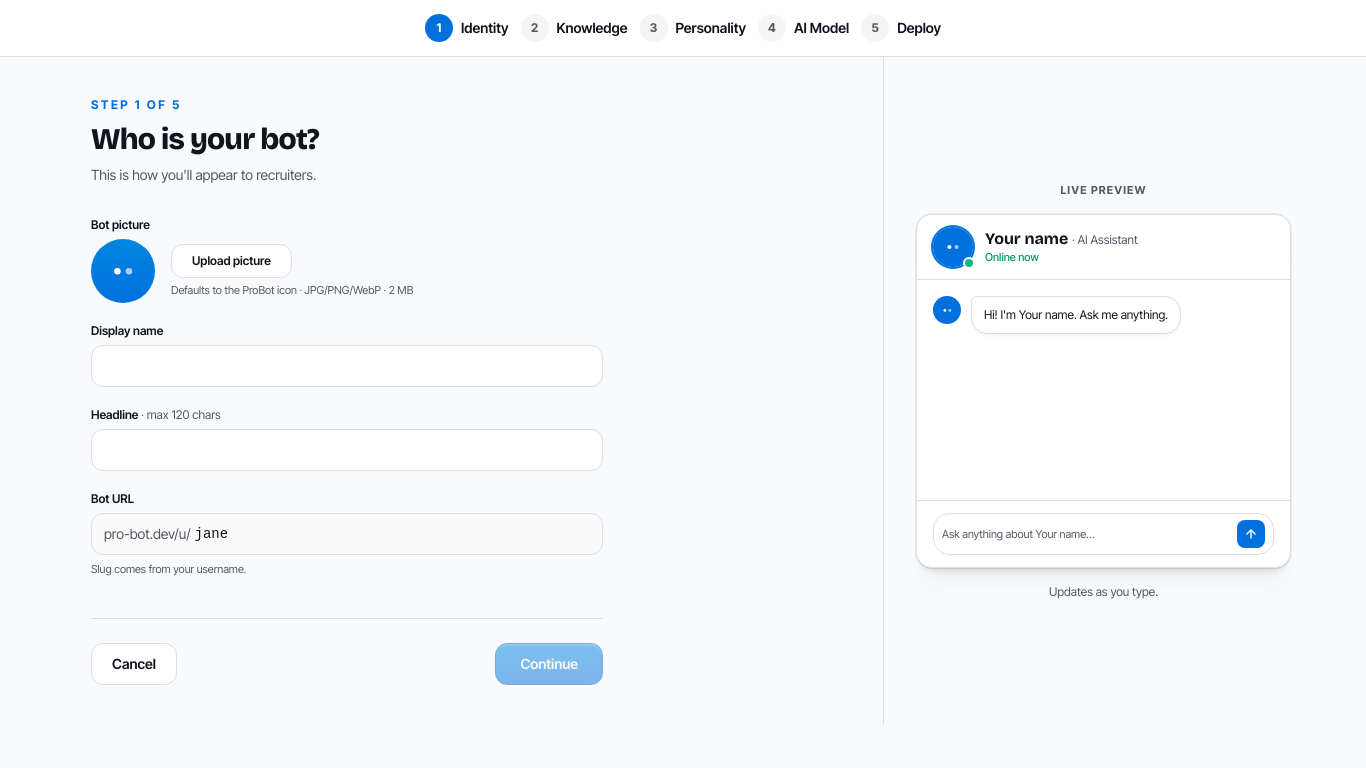
Test: BotFactoryForm › disables Continue until name is filled (Step 1 validation)
Expected: the button "Continue" is disabled, [495,642,603,684]
Type "Jane Doe" into the field labelled "Display name". click: (347, 366)
box: [91,345,603,387]
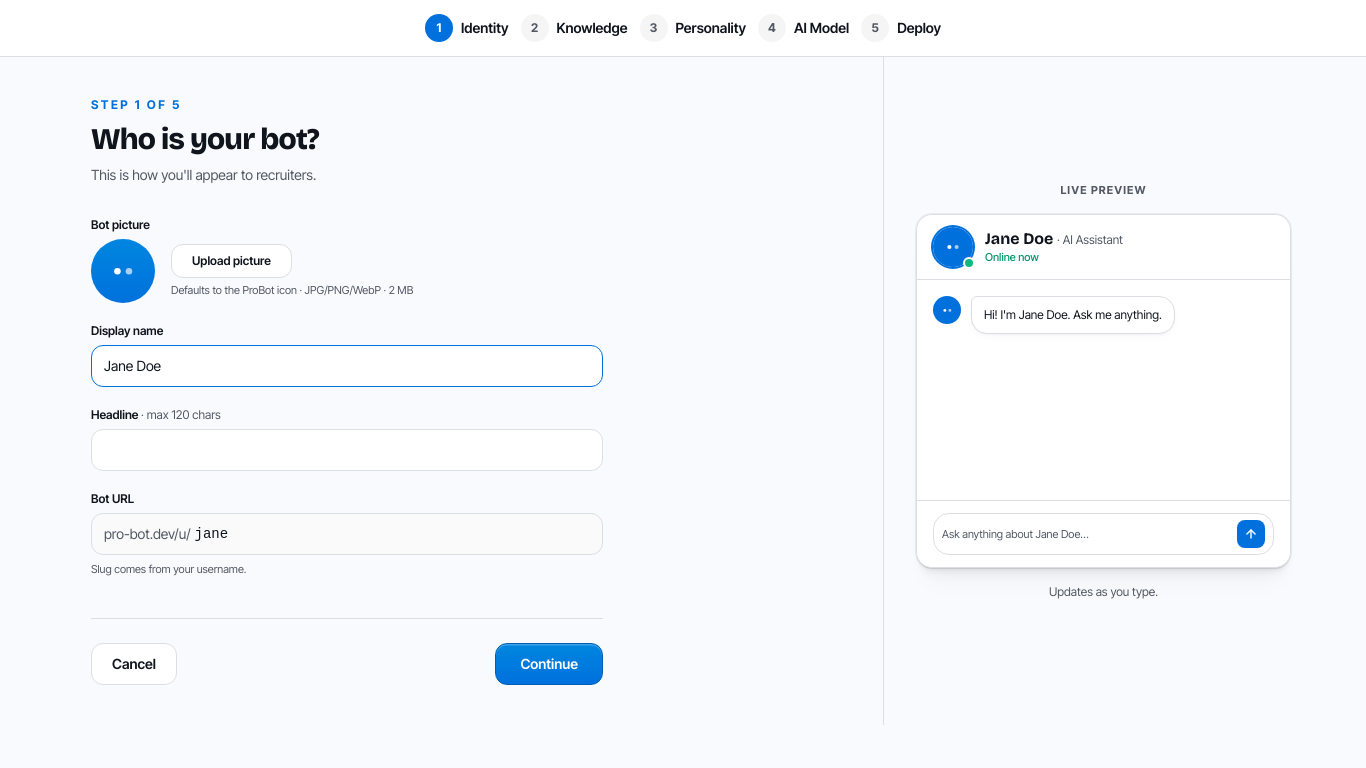
Expected: the button "Continue" is enabled, [495,642,603,684]
